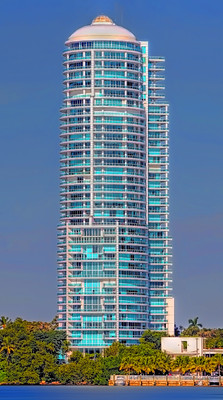medium: (60, 14, 176, 358)
